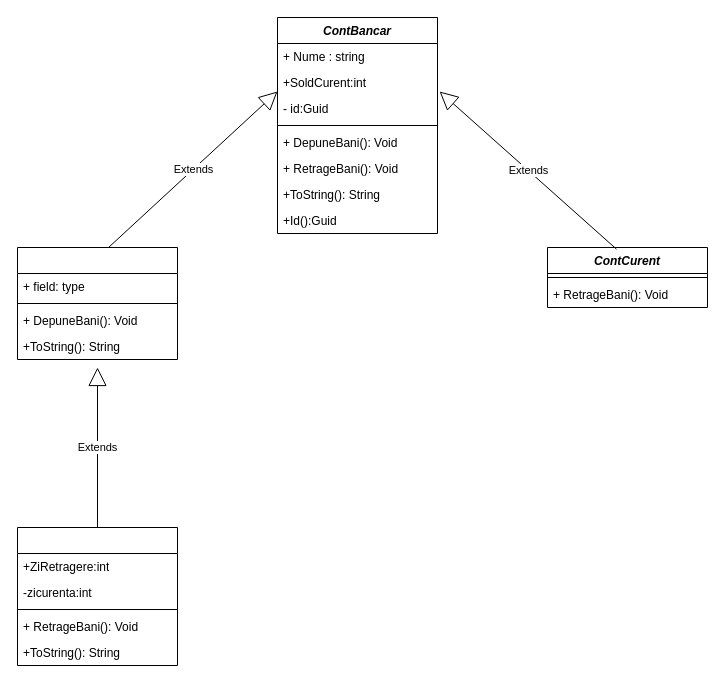
Some shapes in this 725 by 686 pixel diagram are drawn without their labels. Here are the shapes that lost their labels. From the top down, the box of each, then its label:
(16, 246, 178, 360): ContEconomii
(16, 526, 178, 666): ContInvestitii
